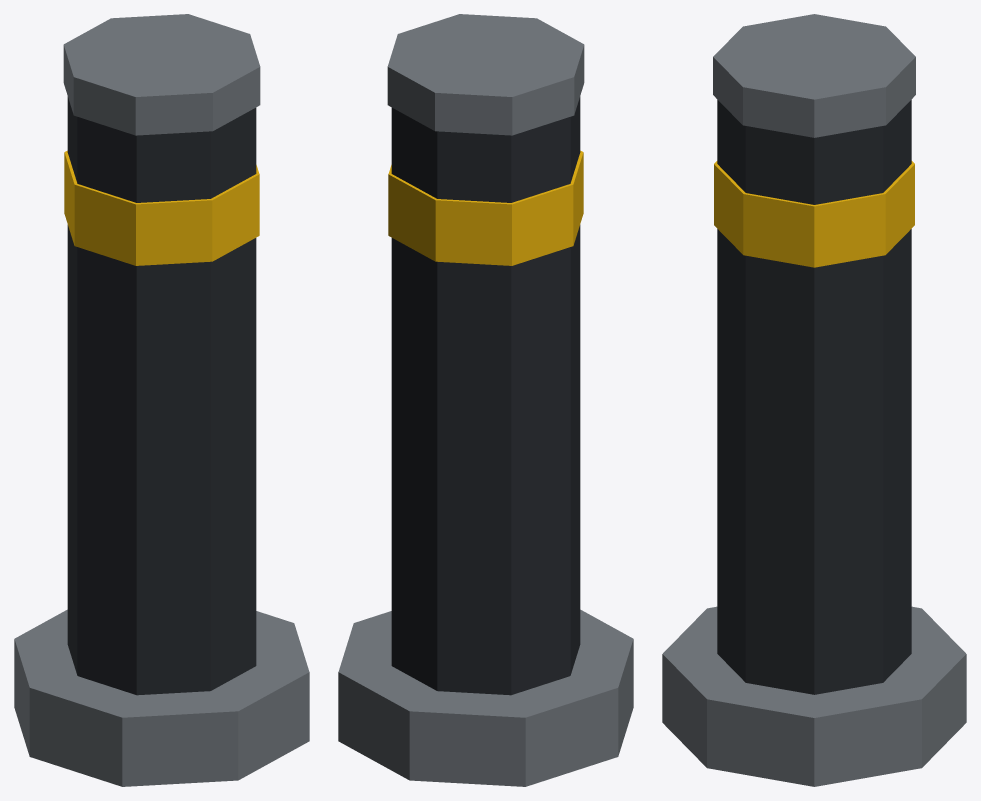
The model's file is PROP_BOLLARD_01.glb.
3 views of the same model, side by side, from view 1: azimuth 30°, elevation 25°; view 2: azimuth 150°, elevation 25°; view 3: azimuth 270°, elevation 25° (orthographic).
Visible parts, largest first — view 1: CIVRUM_GAME_PROP_BOLLARD_01; view 2: CIVRUM_GAME_PROP_BOLLARD_01; view 3: CIVRUM_GAME_PROP_BOLLARD_01.
Part boxes in pixels (box(x1,y1,x2,y2)): CIVRUM_GAME_PROP_BOLLARD_01: box(14, 14, 309, 786); CIVRUM_GAME_PROP_BOLLARD_01: box(338, 14, 633, 786); CIVRUM_GAME_PROP_BOLLARD_01: box(662, 14, 966, 786).
Bounding box in the file's own units: 0.36 × 0.87 × 0.36.
